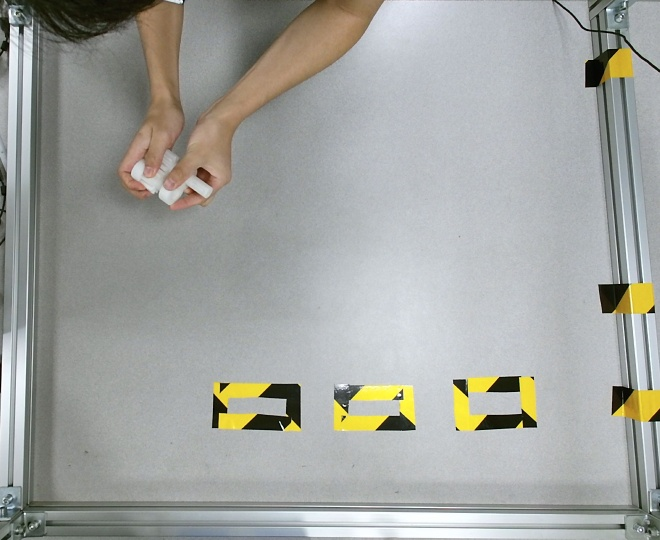stage_3: (131, 149, 214, 198)
